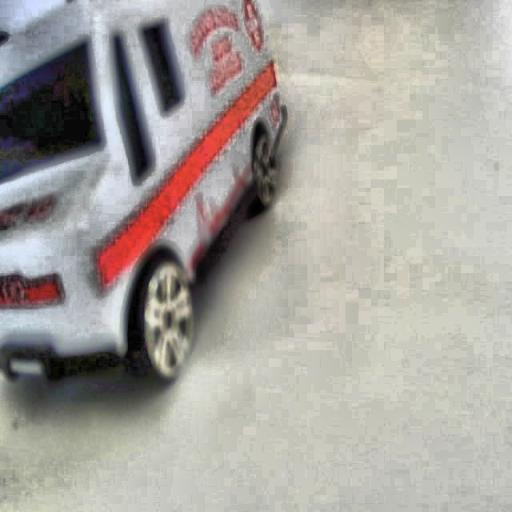ambulance: (0, 0, 287, 385)
